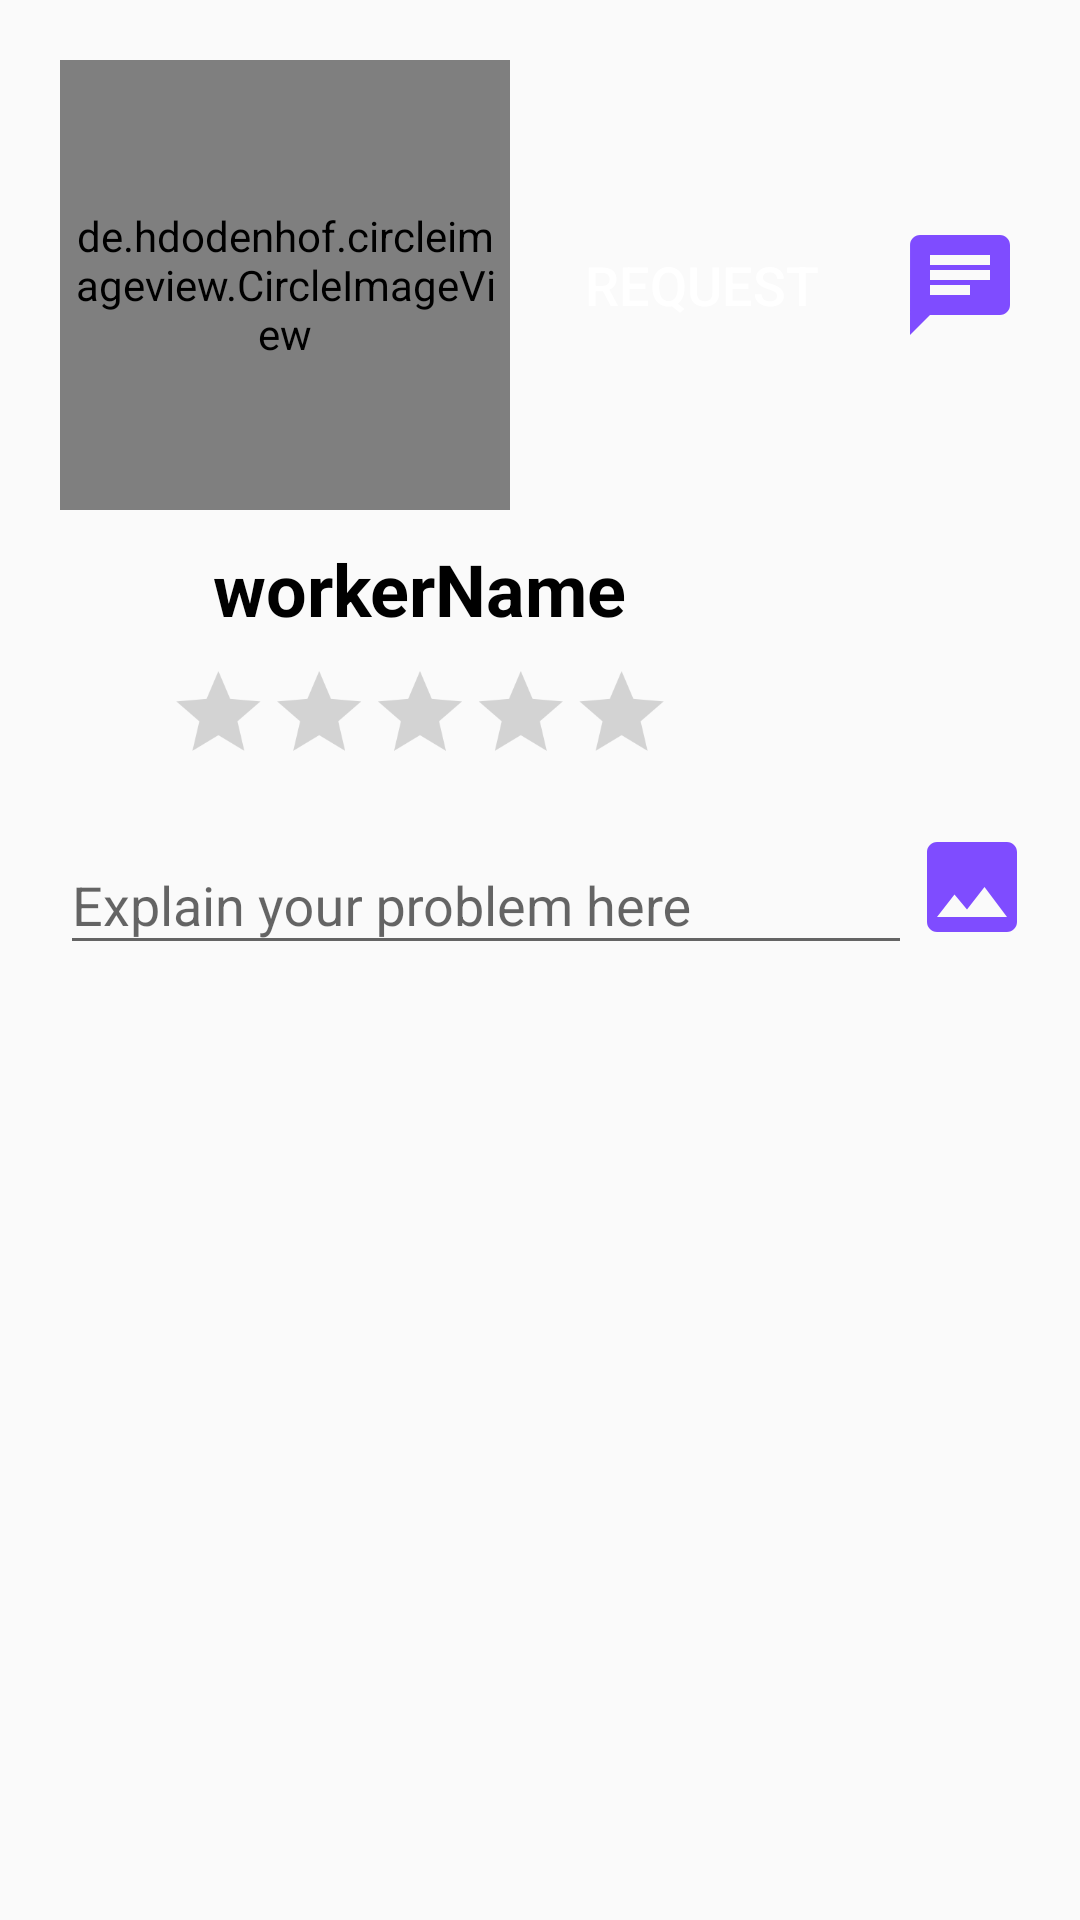

Icons on this 1080w x 1920h Android screen, each with the point to tap as [x,y]:
chat: [960,285]
photo: [972,887]
